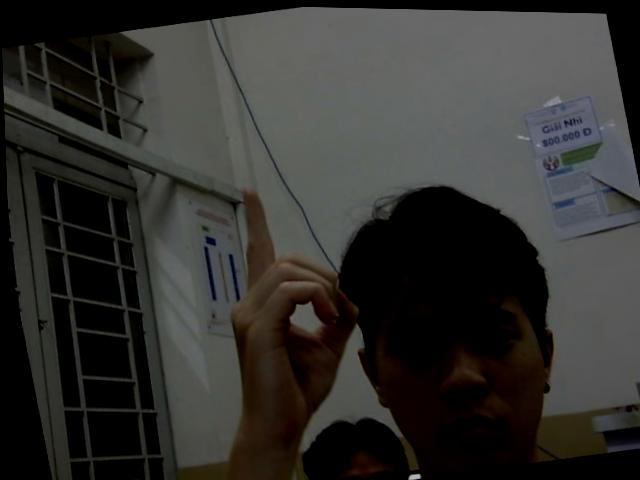D: (201, 169, 376, 434)
